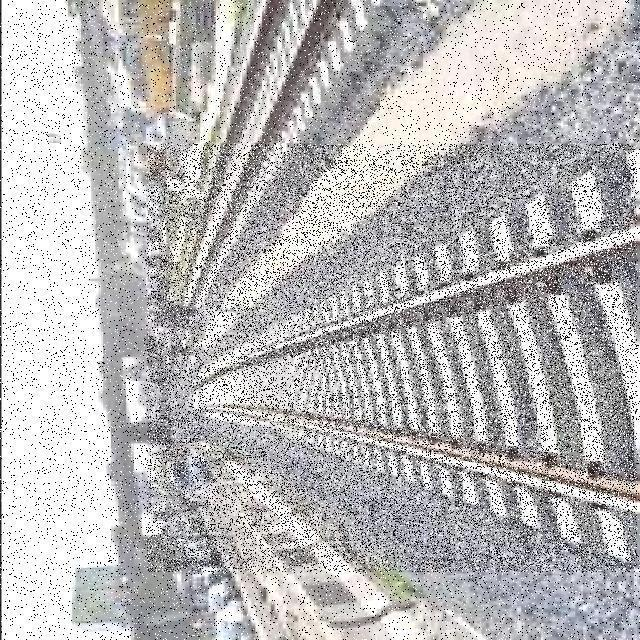rail: (149, 145, 638, 573), (172, 1, 400, 320)
